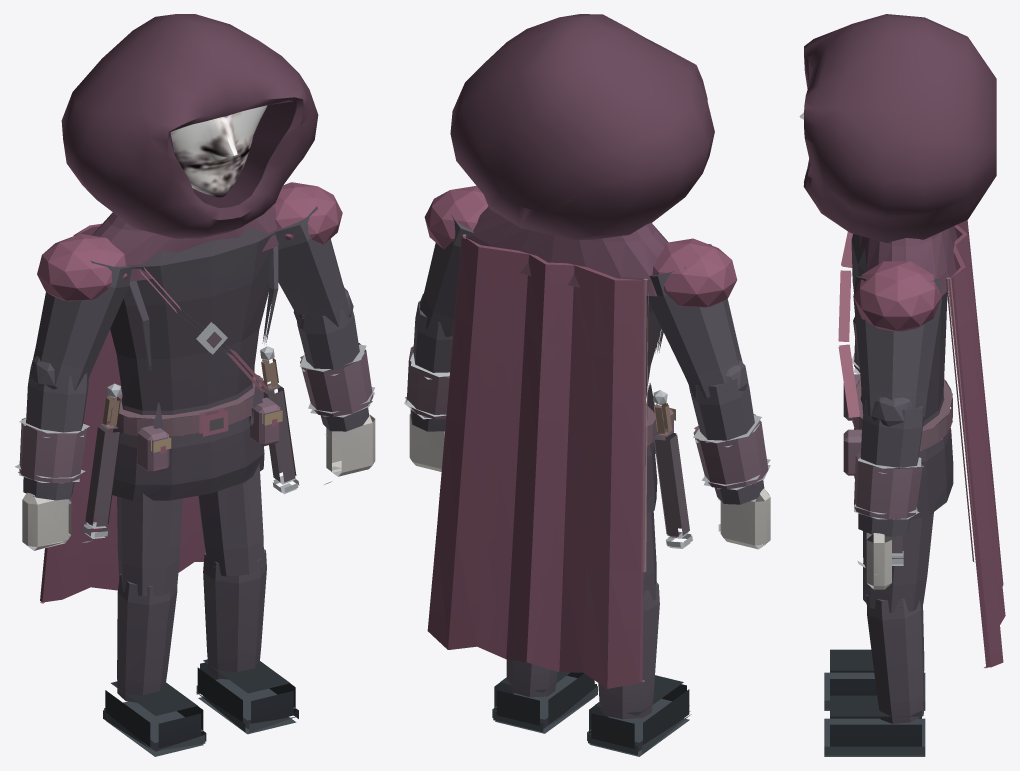
File: HoodedStrangerAssassin.glb
3 views of the same model, side by side, from view 1: azimuth 30°, elevation 25°; view 2: azimuth 150°, elevation 25°; view 3: azimuth 270°, elevation 25° (orthographic). The views are drawn at different scales.
Visible parts, largest first — view 1: Body, Head, ArmR, ArmL, LegR, LegL, HeadFace; view 2: Body, Head, ArmR, ArmL, LegR, LegL; view 3: Head, Body, ArmL, LegL, LegR.
Part boxes in pixels (<box>): Body: <box>40,223,299,603</box>; Head: <box>61,14,318,281</box>; ArmR: <box>15,233,132,550</box>; ArmL: <box>275,182,375,484</box>; LegR: <box>103,493,206,756</box>; LegL: <box>196,464,298,734</box>; HeadFace: <box>170,105,267,197</box>; Body: <box>427,234,692,688</box>; Head: <box>450,14,714,296</box>; ArmR: <box>646,238,770,549</box>; ArmL: <box>404,186,488,471</box>; LegR: <box>587,511,691,756</box>; LegL: <box>492,659,597,733</box>; Head: <box>803,14,996,296</box>; Body: <box>838,220,1005,668</box>; ArmL: <box>853,261,941,589</box>; LegL: <box>824,512,933,756</box>; LegR: <box>824,531,925,710</box>.
Bounding box in the file's own units: 3.72 × 7.01 × 1.86.
Materials: 2 (1 with a texture image).
